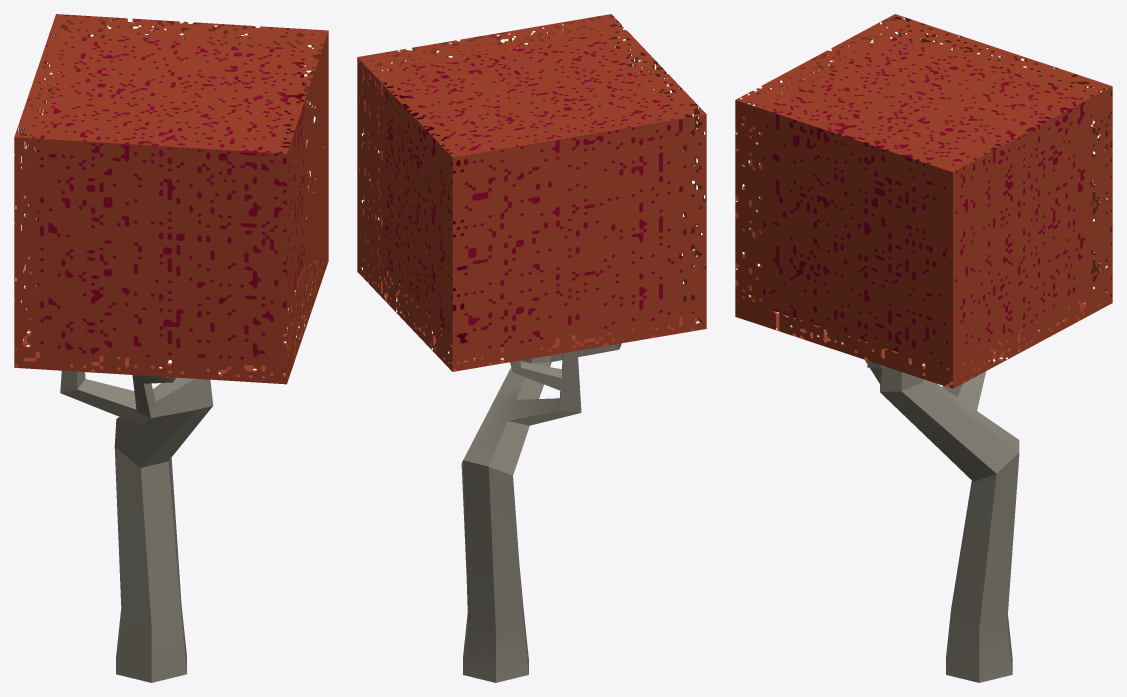
The model's file is tree_04.fbx.
3 views of the same model, side by side, from view 1: azimuth 30°, elevation 25°; view 2: azimuth 150°, elevation 25°; view 3: azimuth 270°, elevation 25° (orthographic). The views are drawn at different scales.
Visible parts, largest first — view 1: tree_04; view 2: tree_04; view 3: tree_04.
Part boxes in pixels (left/top/right/bottom): tree_04: left=14, top=14, right=328, bottom=682; tree_04: left=357, top=14, right=706, bottom=682; tree_04: left=735, top=14, right=1112, bottom=682.
Size of the model in its own units: 135 by 227 by 136.
